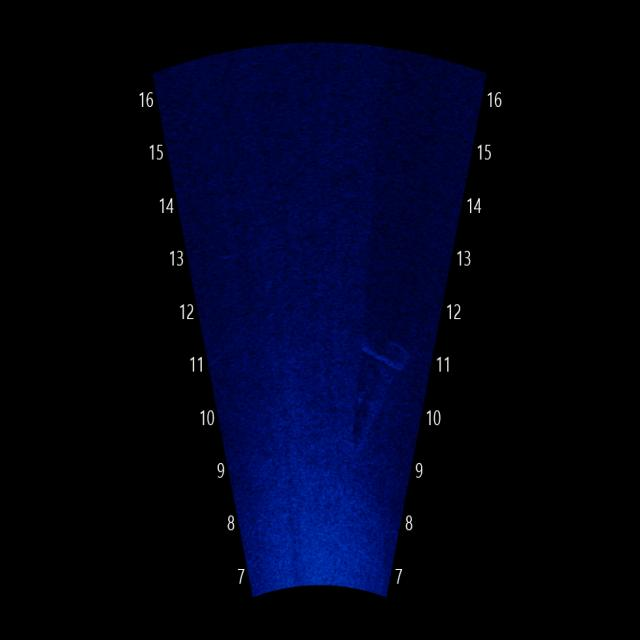triangle: (337, 315, 410, 461)
